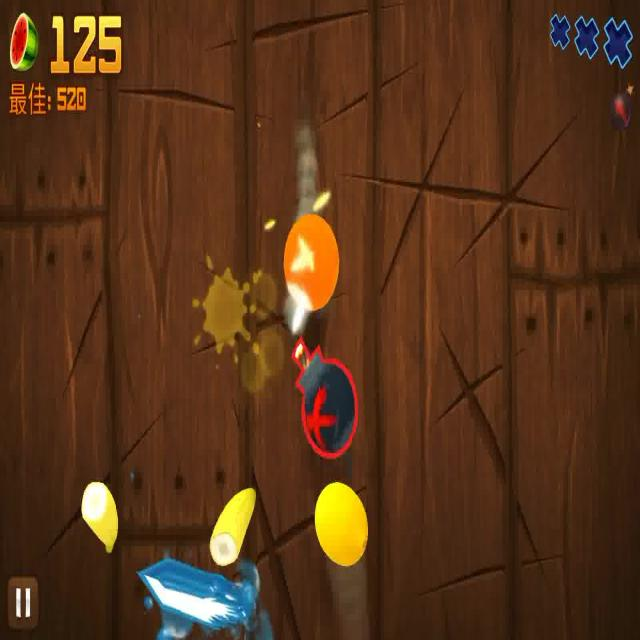bomb: (288, 334, 359, 462)
fruit: (283, 210, 341, 315), (312, 479, 371, 571), (211, 482, 257, 570), (85, 482, 117, 551)
